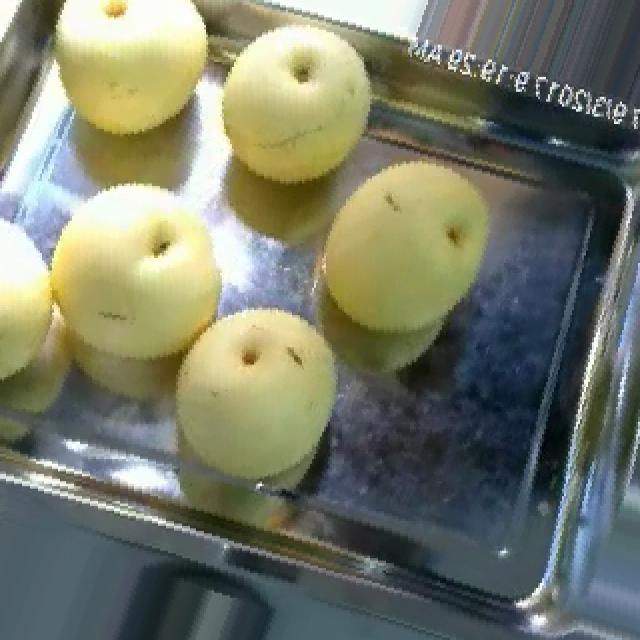Fruit: (286, 104, 516, 362), (136, 275, 366, 511), (12, 169, 252, 394), (190, 2, 398, 214), (22, 0, 238, 161)
